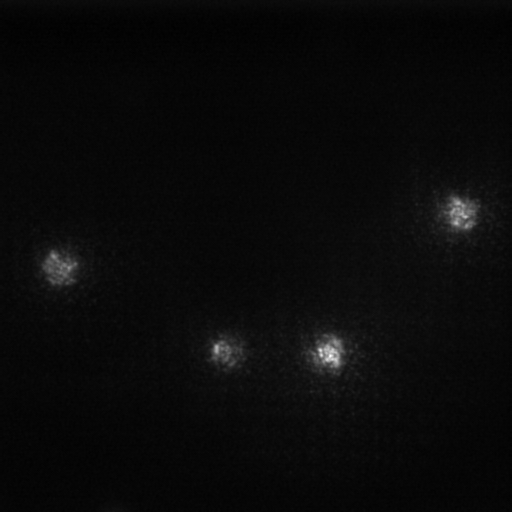lam1: (440, 196, 479, 231), (306, 334, 345, 369), (42, 250, 77, 284), (211, 340, 241, 366)
